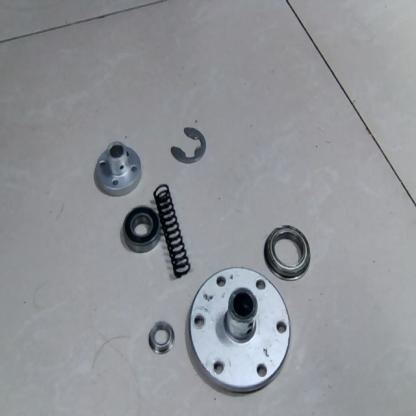FOD: (186, 265, 292, 397), (150, 177, 192, 281), (93, 136, 144, 200), (264, 220, 314, 283), (120, 204, 161, 254), (169, 125, 208, 168), (146, 317, 177, 357)
